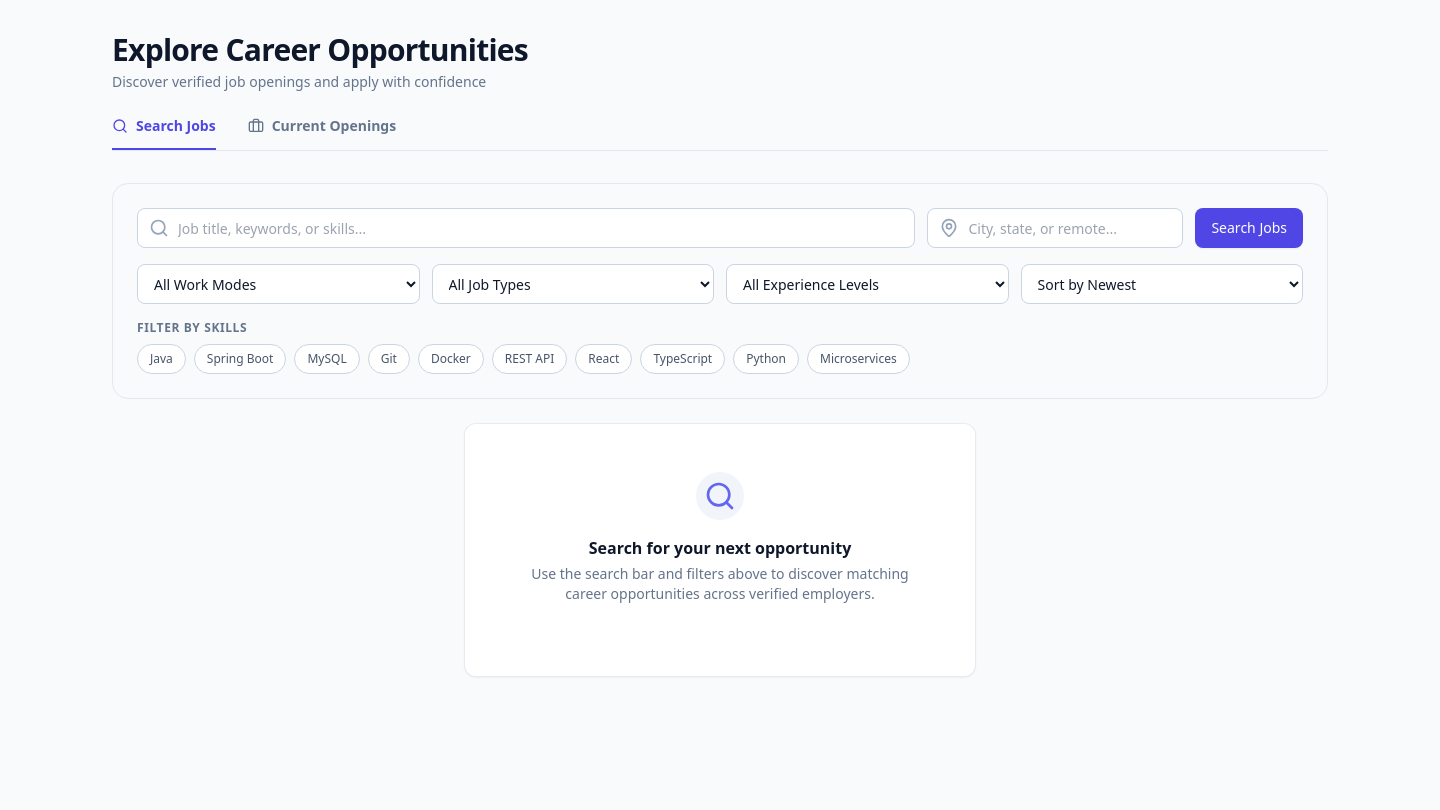
it: Job Discovery Tabs & Filter Synchronization Integration › filters correctly by workMode, jobType, and experienceLevel removing non-matching jobs
Note: Initial search for Java
Type "Java" into the field with placeholder "Job title, keywords, or skills..." at (526,228), box [137, 208, 915, 248]
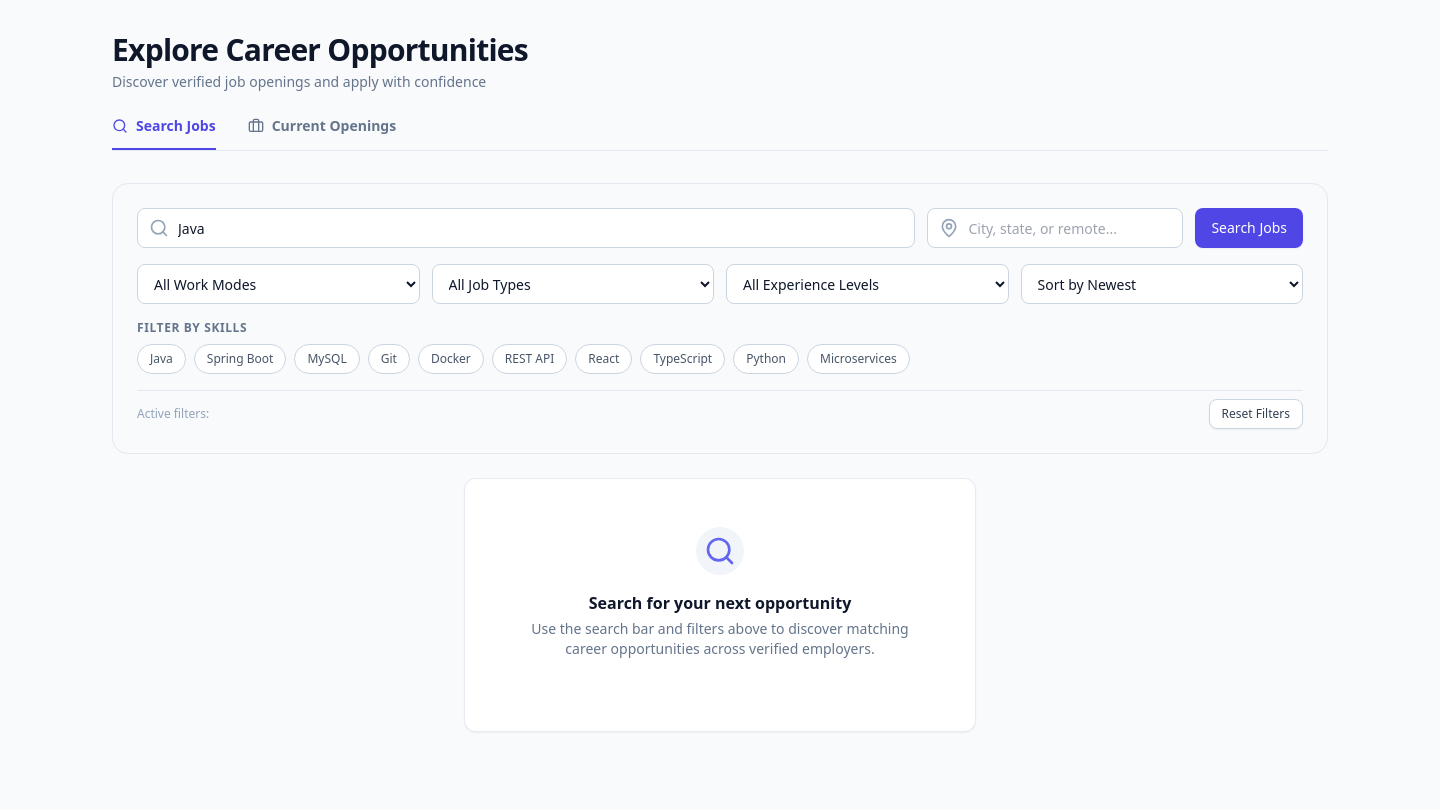
Click the 2nd button "Search Jobs" at (1249,228), box [1195, 208, 1303, 248]
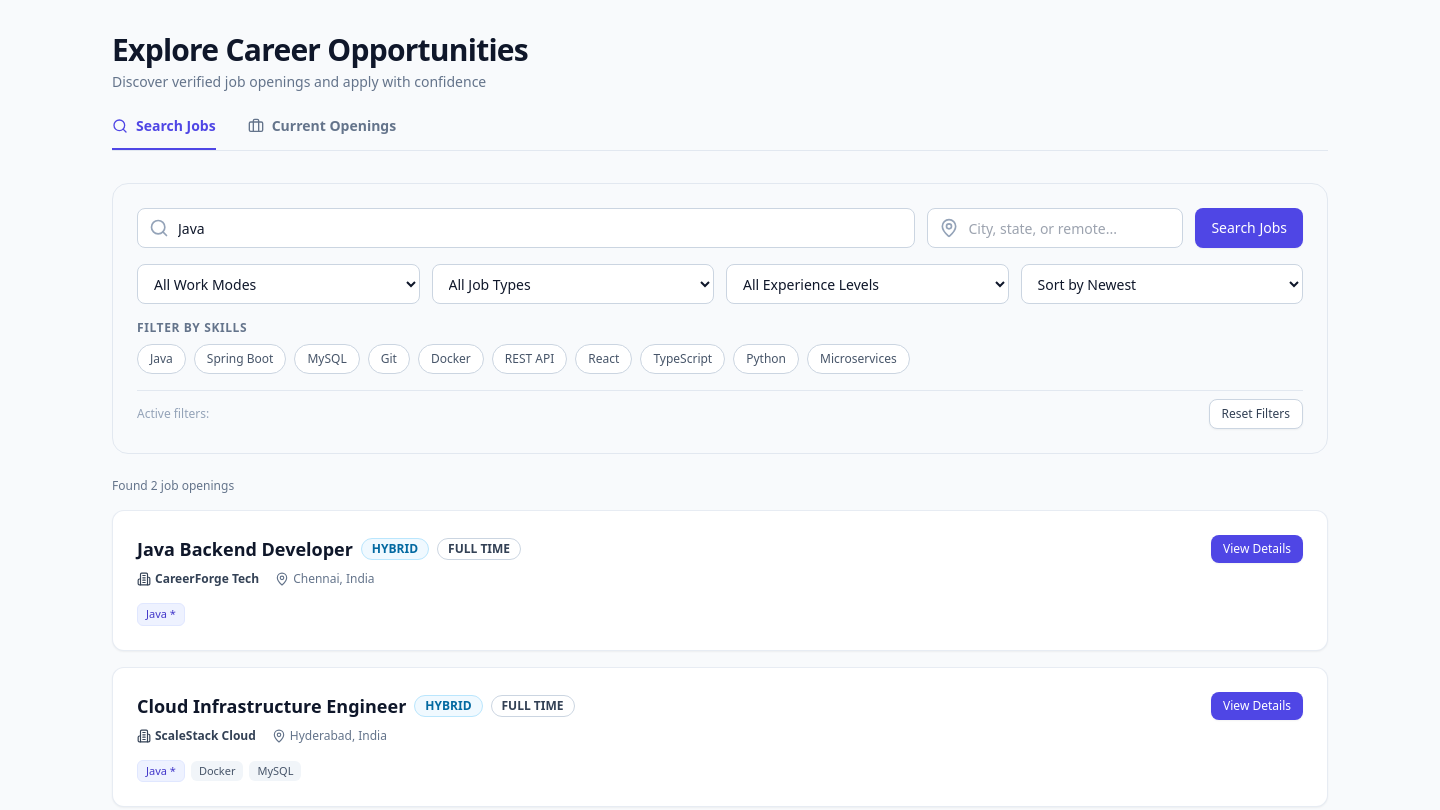
Now the link "Java Backend Developer" is shown, box [137, 535, 353, 563]
Note: Change Work Mode filter to REMOTE (Java Backend Developer is HYBRID, so it must disappear)
Select "Remote" in the 1st dropdown at (278,284), box [137, 264, 420, 304]
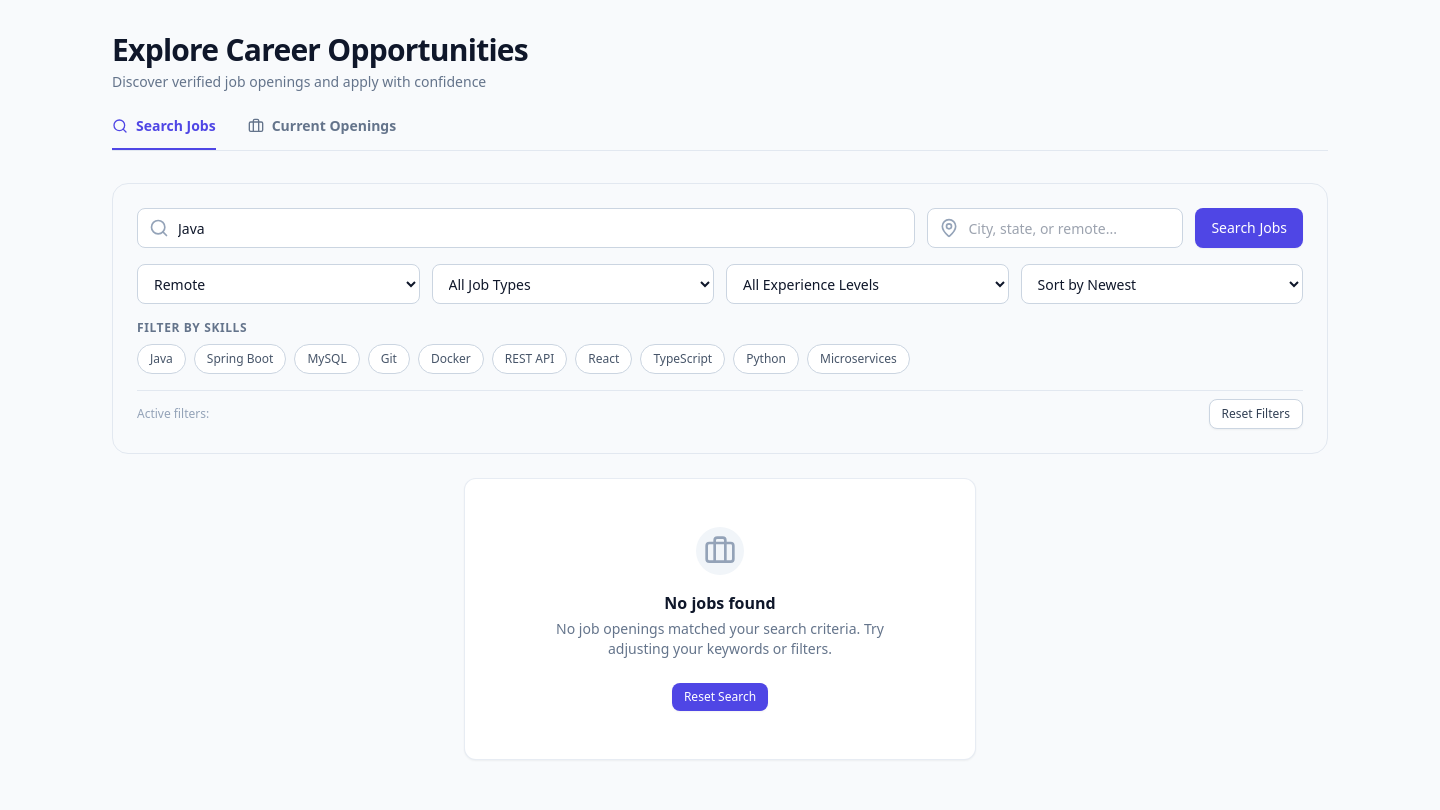
Now the link "Java Backend Developer" is gone
Now the heading "No jobs found" is shown, box [664, 591, 776, 615]
